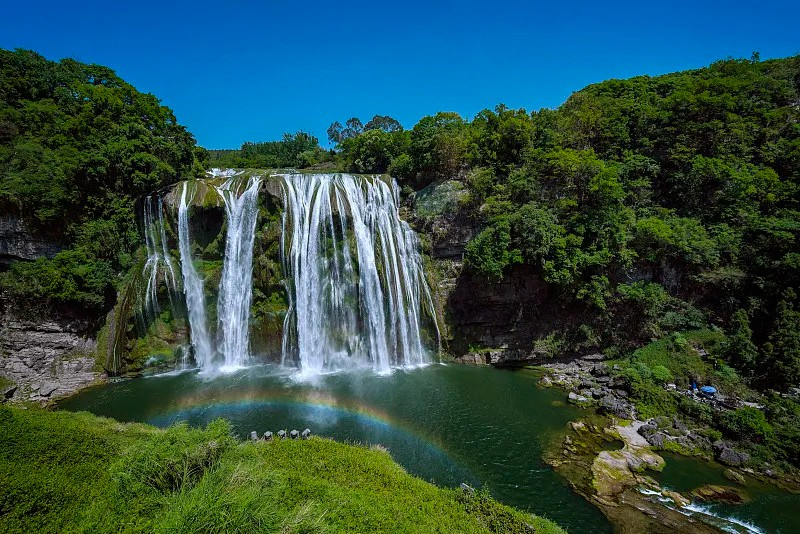Huangguoshu: (139, 166, 431, 375)
